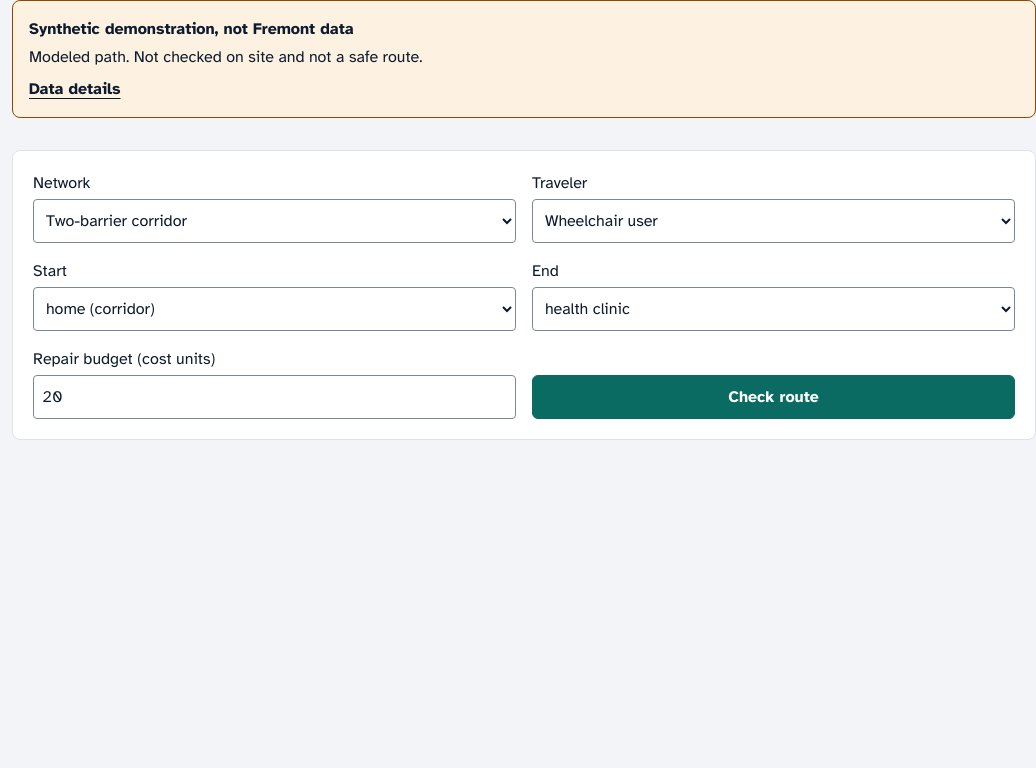
renders the repair impacts the API returned for the corridor trip
Expected: the dropdown labelled "Start" is shown, [33,287,516,331]
Click the button "Check route" at point(774, 397), box [532,375,1015,419]
(page scrolled)
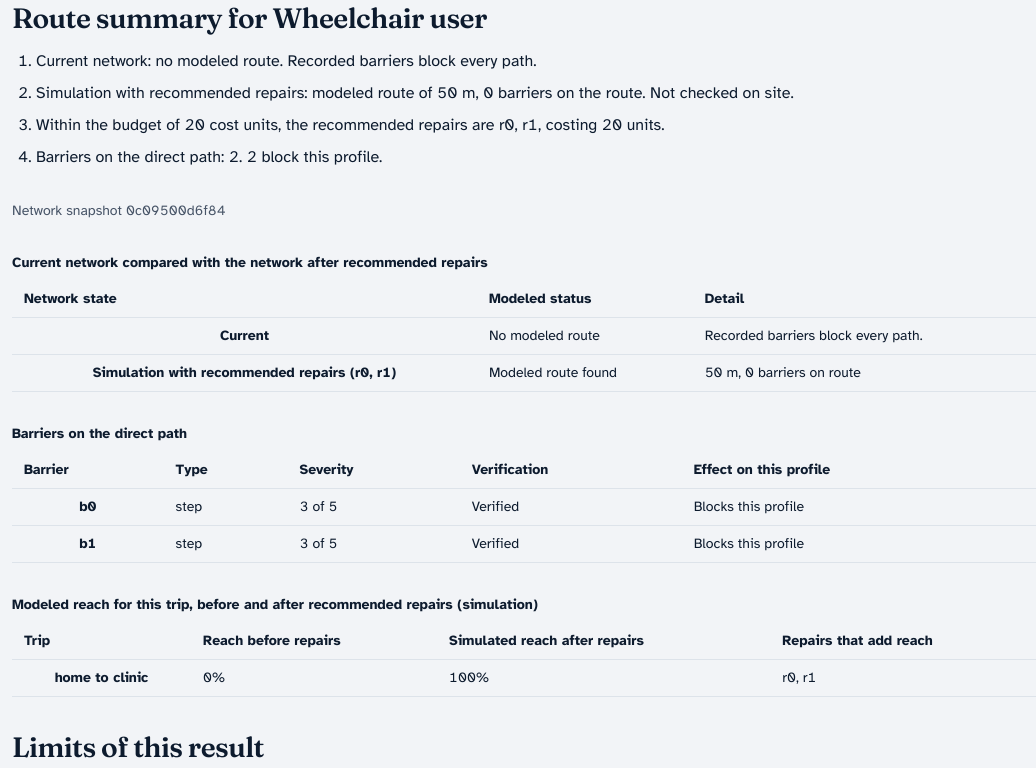
Expected: the heading "Route summary for Wheelchair user" is shown, [12,1,487,35]
Expected: the text "0%" is shown, [191,660,437,697]
Expected: the text "100%" is shown, [437,660,770,697]
